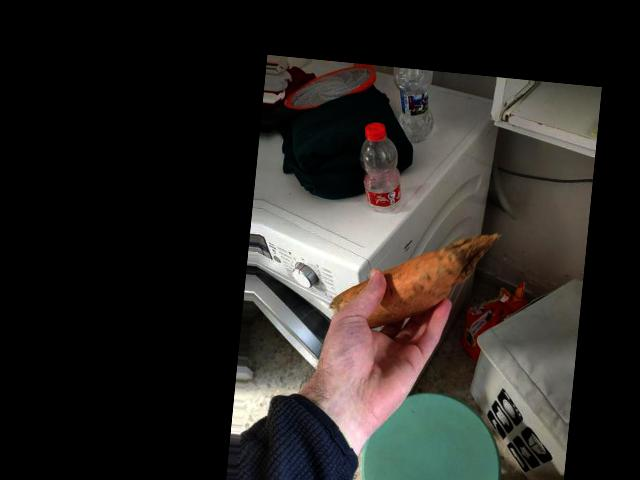sweet_potato: (355, 245, 457, 331)
